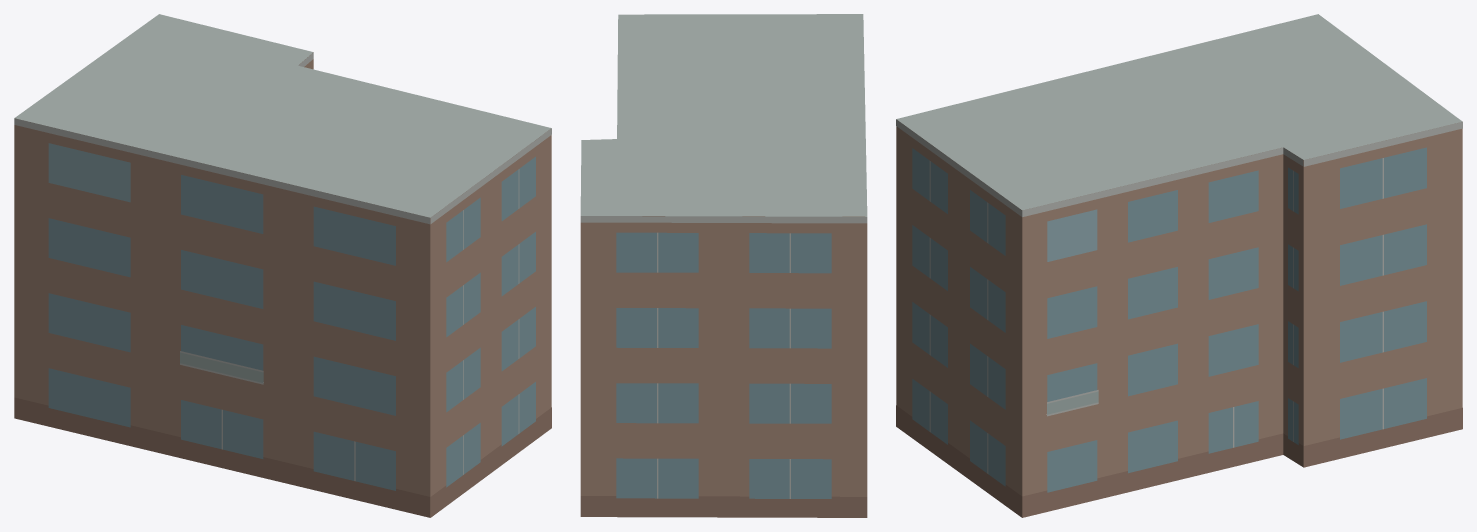
Rendered from survey-upis-32612739.glb.
3 renders of one model, left to right at view 1: azimuth 30°, elevation 25°; view 2: azimuth 150°, elevation 25°; view 3: azimuth 270°, elevation 25°, orthographic. The views are drawn at different scales.
Parts seen in each view (by area): view 1: survey-upis-32612739.tmp; view 2: survey-upis-32612739.tmp; view 3: survey-upis-32612739.tmp.
Part boxes in pixels (box(x1,y1,x2,y2)): survey-upis-32612739.tmp: box(14, 14, 551, 517); survey-upis-32612739.tmp: box(580, 14, 867, 517); survey-upis-32612739.tmp: box(896, 14, 1462, 517).
Bounding box in the file's own units: 15.08 × 11 × 18.38.
